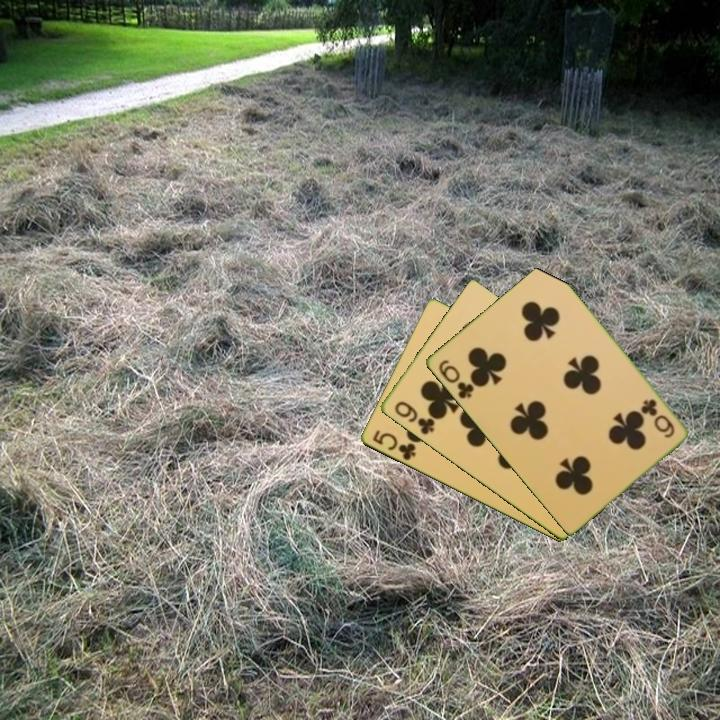5c: (368, 427, 418, 464)
6c: (435, 356, 477, 402), (637, 395, 677, 441)
9c: (390, 398, 437, 438)
